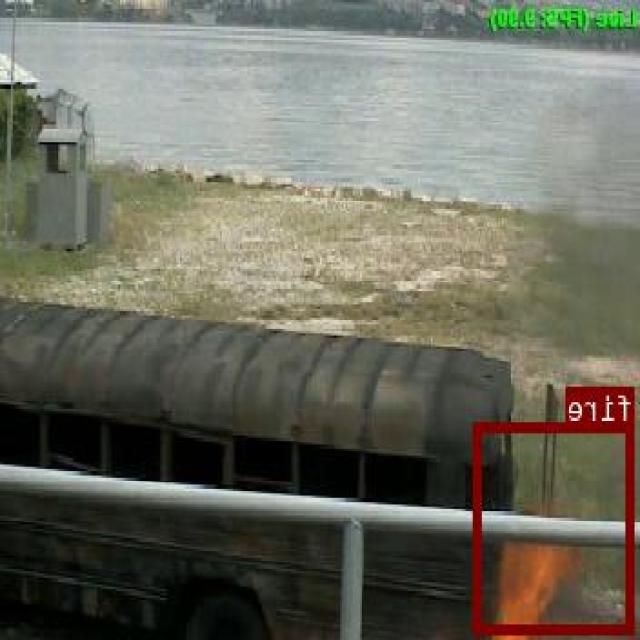fire: (475, 420, 635, 632)
